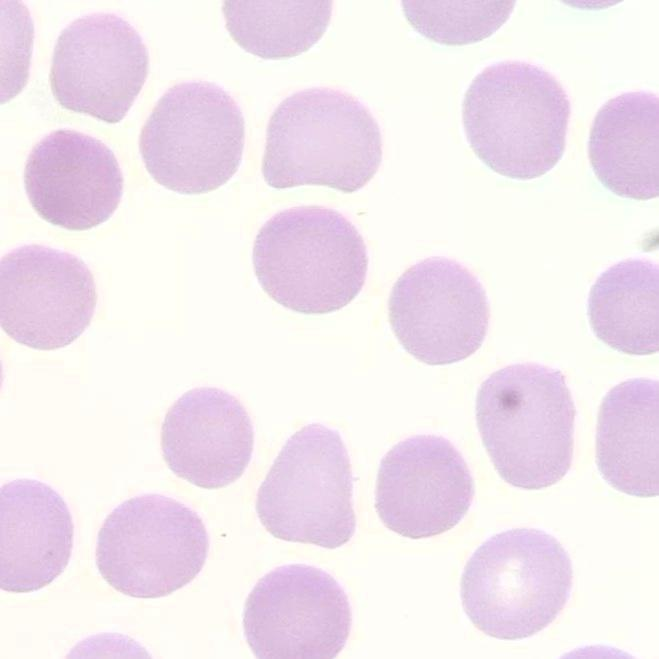Uninfected: (477, 361, 577, 490), (263, 89, 387, 193), (93, 491, 208, 602), (463, 527, 573, 642), (460, 64, 570, 179), (255, 424, 354, 549), (137, 82, 249, 192), (253, 206, 364, 315), (240, 561, 356, 659), (385, 256, 489, 362), (372, 436, 472, 541), (52, 12, 149, 118), (20, 127, 123, 225), (0, 246, 94, 351), (163, 382, 249, 490), (0, 479, 71, 598), (227, 0, 330, 62)
